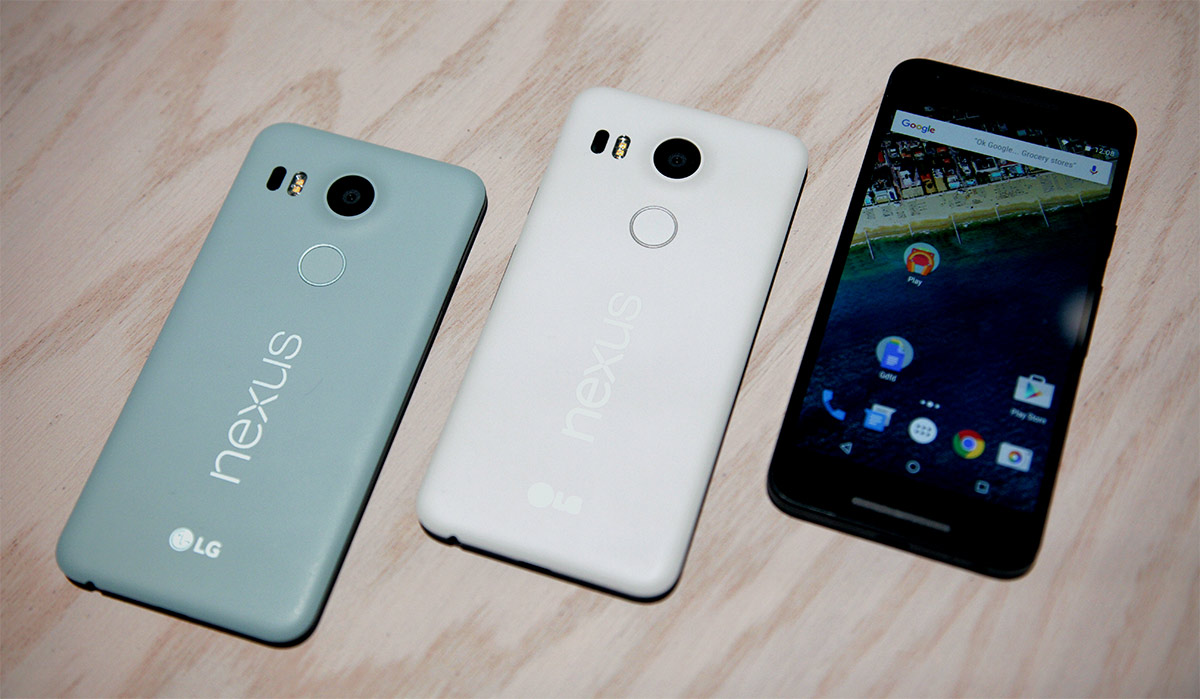smartphone: (56, 122, 488, 650), (417, 87, 808, 602), (765, 57, 1139, 580)
